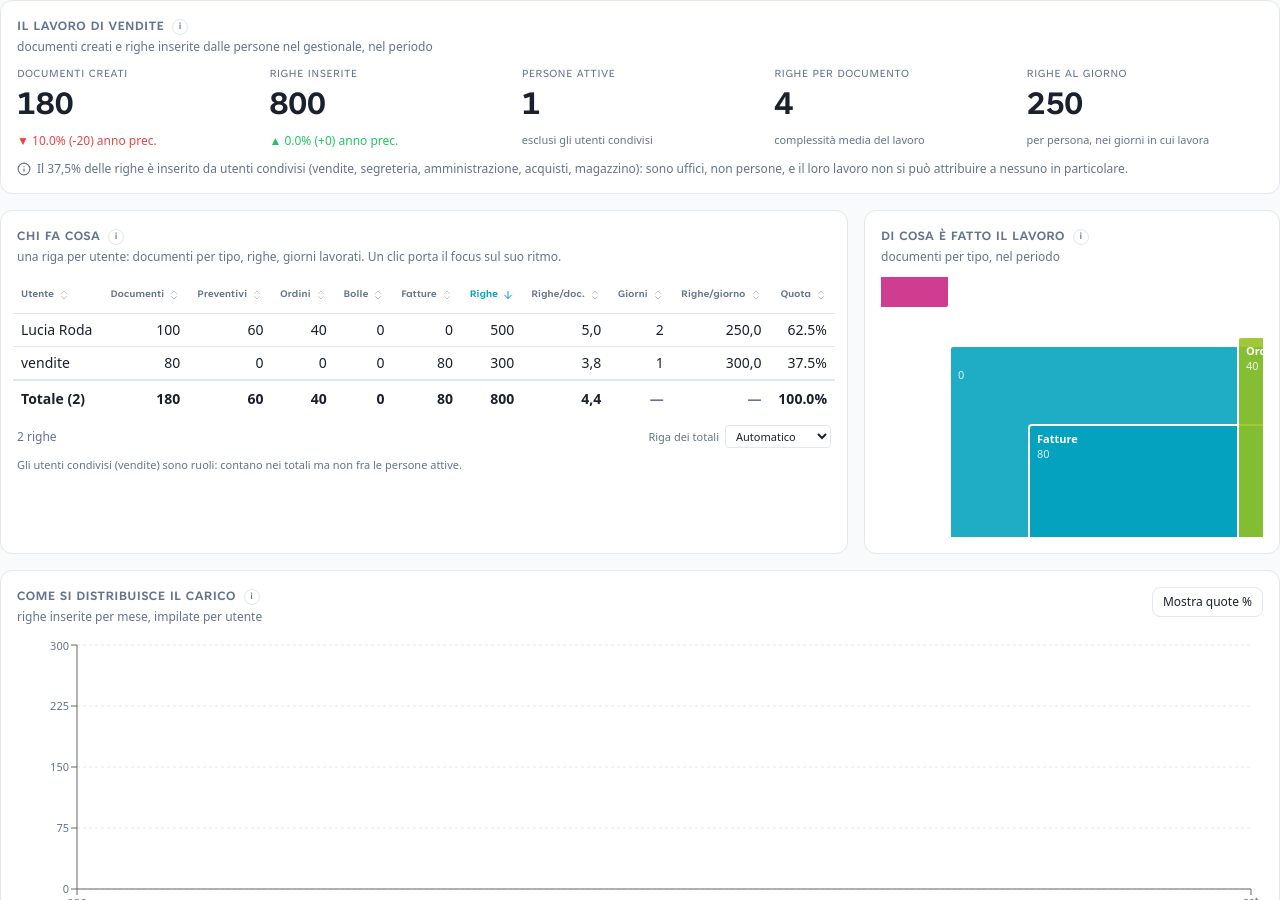
VistaCarico › alterna volumi e quote percentuali nel carico mensile
Expected: the heading "Come si distribuisce il carico i" is shown, [17, 587, 262, 607]
Click the button "Mostra quote %": coordinates (1208, 602) [1152, 587, 1263, 617]
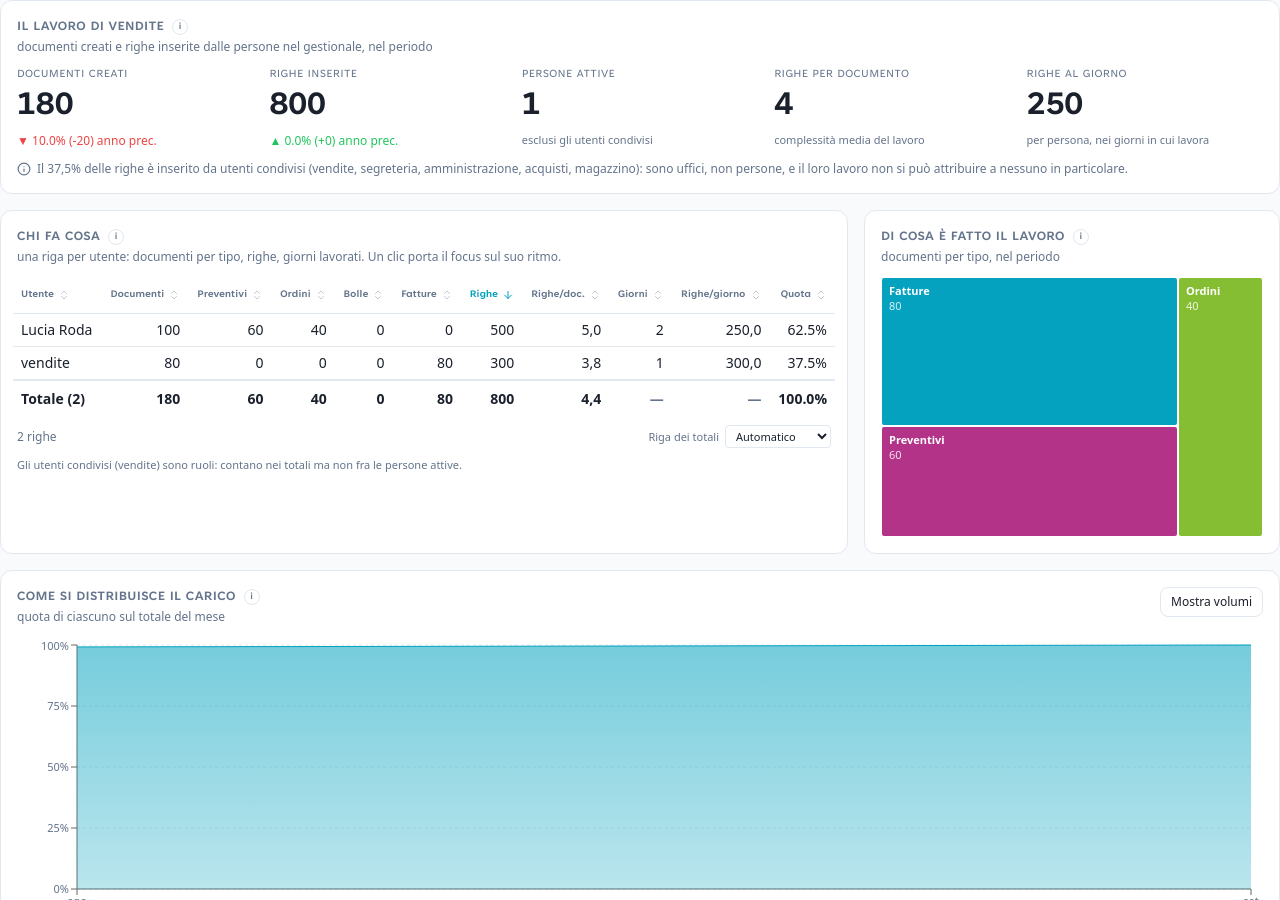
Expected: the button "Mostra volumi" is shown, [1160, 587, 1263, 617]
Expected: the text "quota di ciascuno sul totale del mese" is shown, [17, 609, 260, 625]
